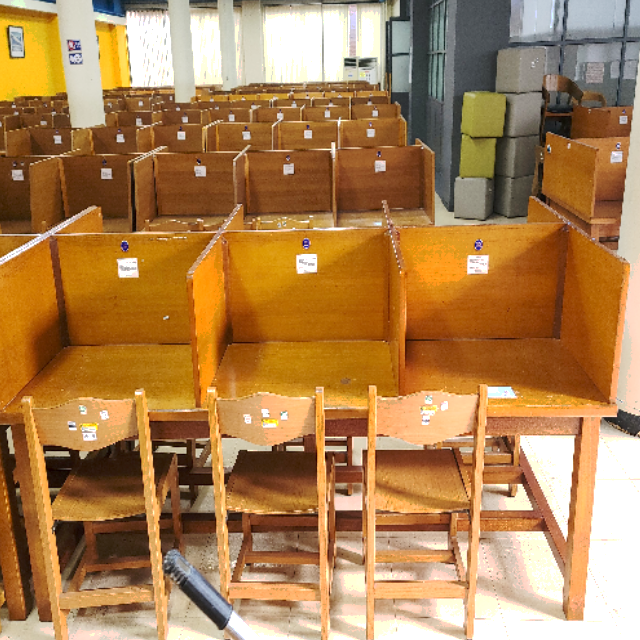empty: (411, 210, 625, 514), (206, 225, 403, 515), (1, 222, 199, 502)
